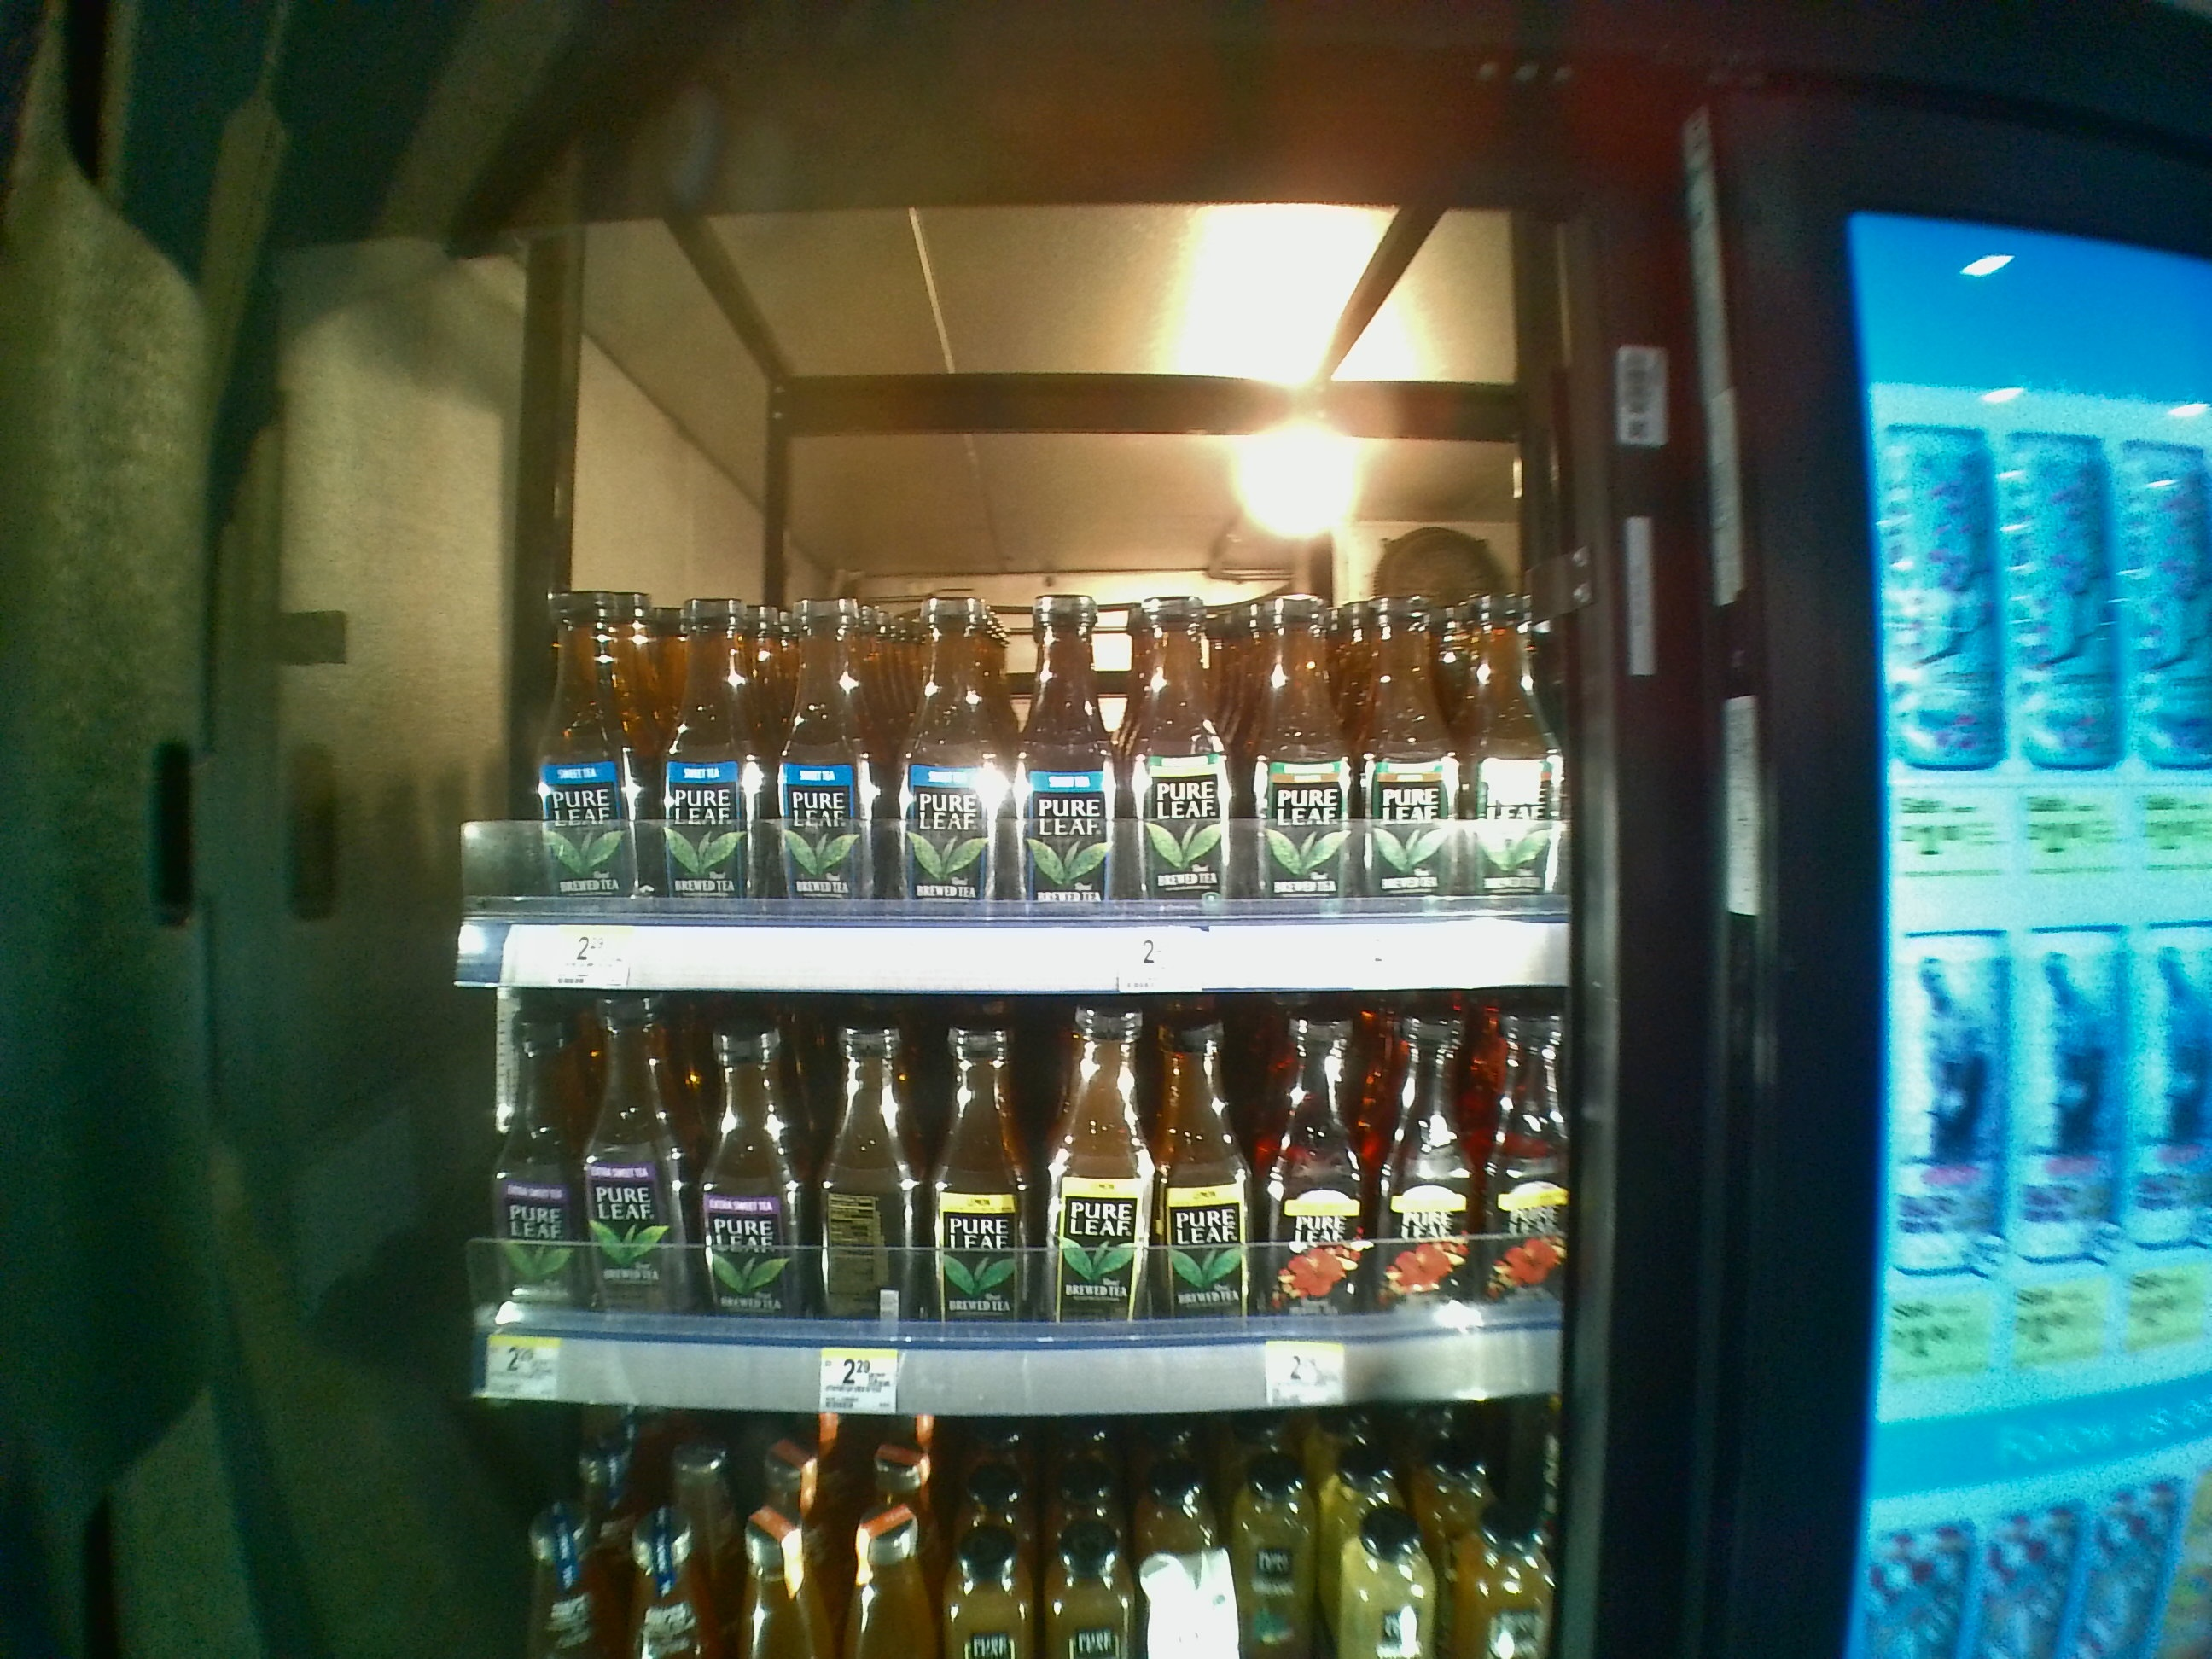shelf: (455, 225, 1575, 985), (449, 997, 1571, 1406)
